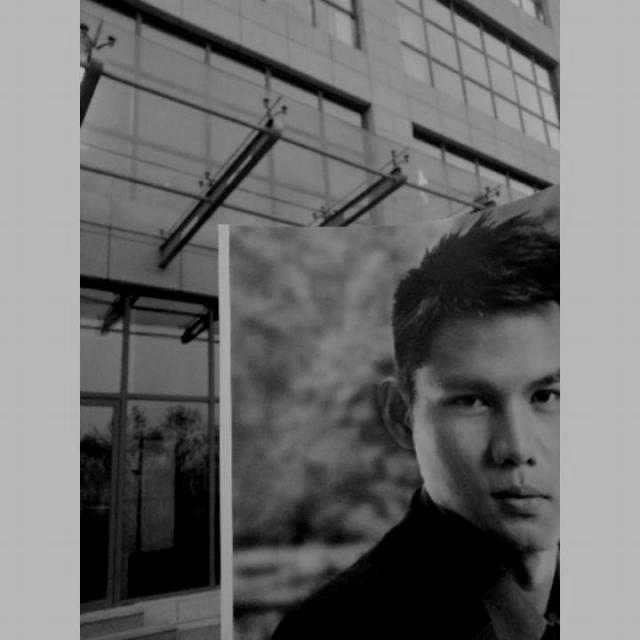fake: (215, 159, 559, 639)
